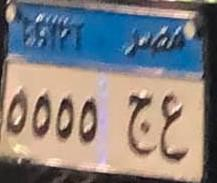5: (69, 89, 109, 139), (25, 89, 56, 148), (1, 85, 31, 138), (53, 106, 74, 141)
ج: (116, 72, 153, 163)
ع: (159, 91, 184, 172)
